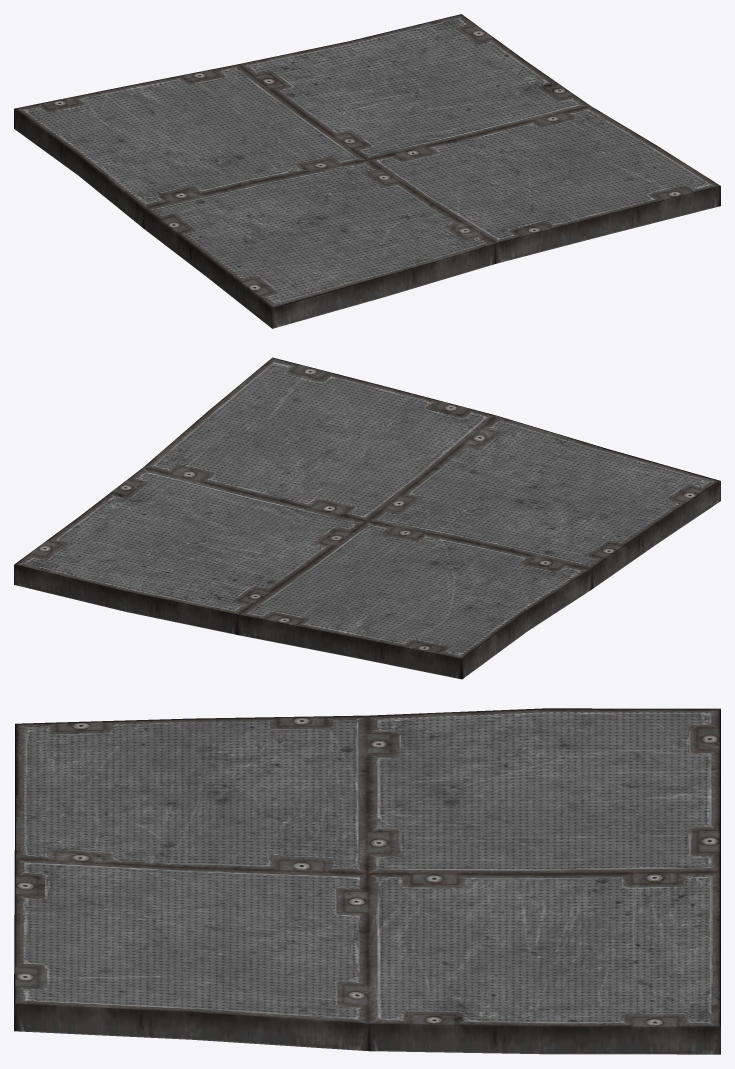
Rendered from pplant_first_floor_damaged04.dae.
3 views of the same model, one above another, from view 1: azimuth 30°, elevation 25°; view 2: azimuth 150°, elevation 25°; view 3: azimuth 270°, elevation 25° (orthographic). The views are drawn at different scales.
Visible parts, largest first — view 1: first_floor_damaged04; view 2: first_floor_damaged04; view 3: first_floor_damaged04.
Part boxes in pixels (left/top/right/bottom): first_floor_damaged04: left=14, top=14, right=720, bottom=328; first_floor_damaged04: left=14, top=357, right=720, bottom=679; first_floor_damaged04: left=14, top=708, right=720, bottom=1054.
Bounding box in the file's own units: 2 × 0.1647 × 2.
